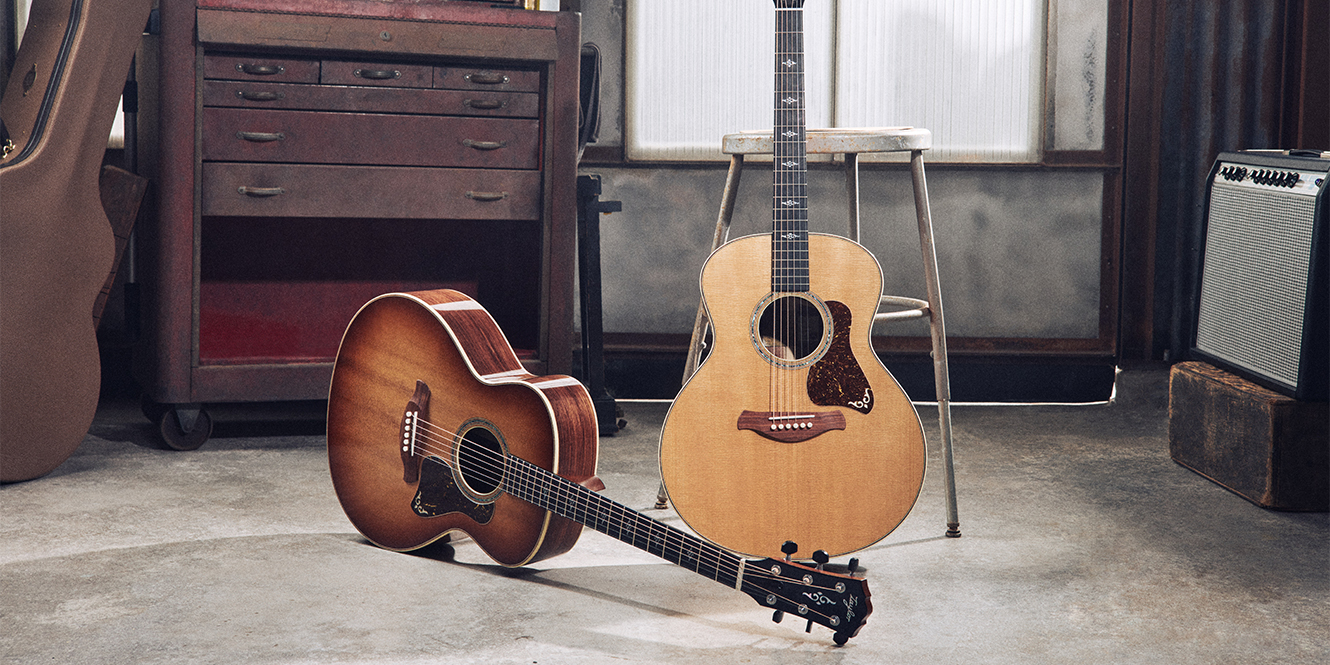guitar: (327, 289, 874, 650), (658, 0, 926, 566)
